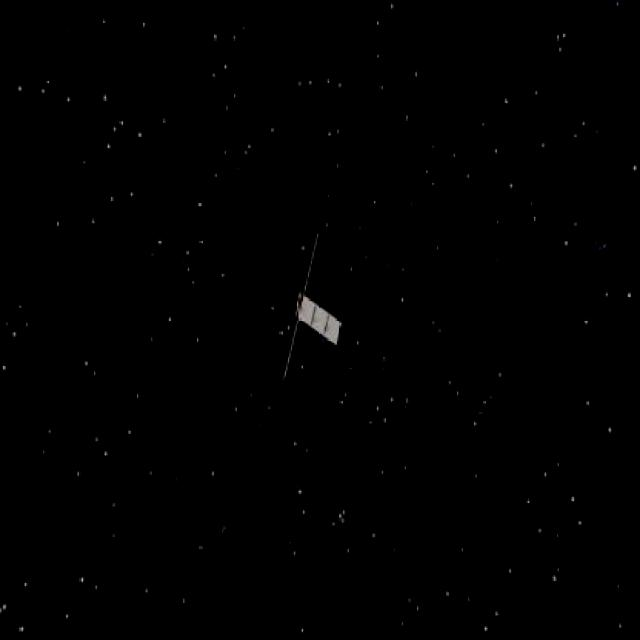satellite: (269, 227, 351, 390)
